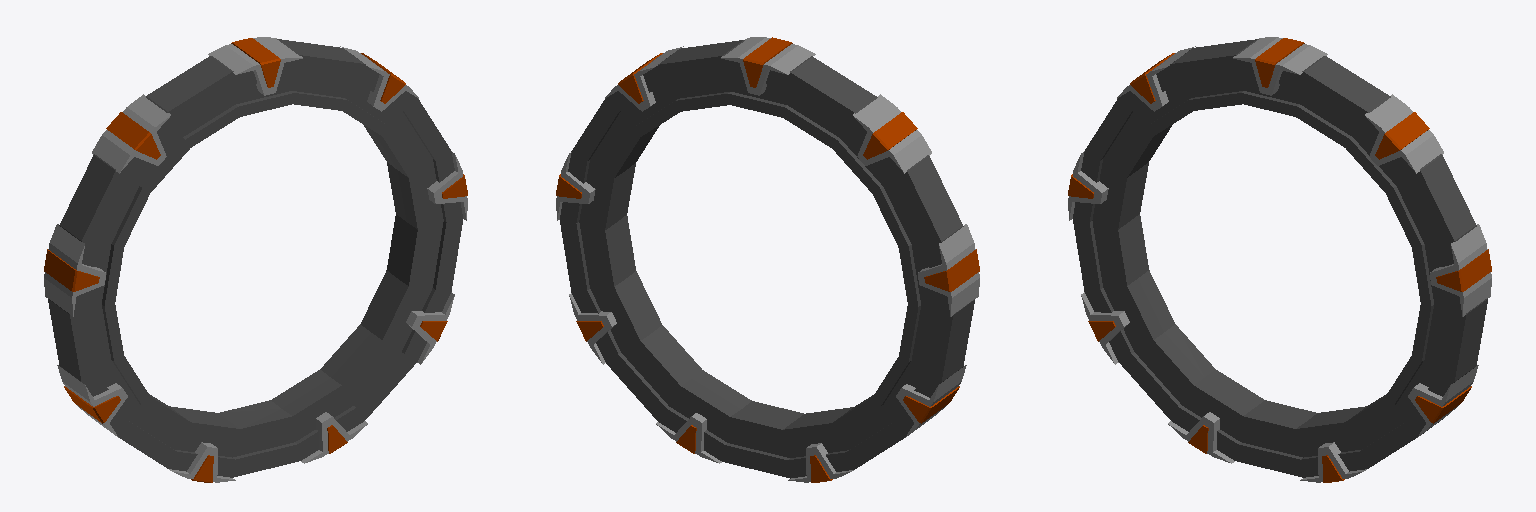
The model's file is stargate.obj.
3 renders of one model, left to right at view 1: azimuth 30°, elevation 25°; view 2: azimuth 150°, elevation 25°; view 3: azimuth 330°, elevation 25°, orthographic.
Visible parts, largest first — view 1: gate, chevron001, chevron002, chevron, chevron003, chevron008, chevron006, chevron005, chevron007, chevron004, chevron009; view 2: gate, chevron001, chevron002, chevron, chevron003, chevron008, chevron006, chevron005, chevron007, chevron004, chevron009; view 3: gate, chevron008, chevron007, chevron, chevron006, chevron001, chevron003, chevron004, chevron002, chevron005, chevron009.
Part boxes in pixels (x1,y1,x2,y2): gate: (48,39,462,477); chevron001: (92,94,170,173); chevron002: (44,224,105,316); chevron: (208,37,302,87); chevron003: (57,365,127,437); chevron008: (340,46,418,111); chevron006: (406,292,454,364); chevron005: (301,412,367,463); chevron007: (427,151,467,220); chevron004: (169,442,235,482); chevron009: (216,42,302,95); gate: (560,40,974,478); chevron001: (853,94,931,173); chevron002: (918,224,979,316); chevron: (721,38,810,95); chevron003: (896,365,966,437); chevron008: (605,46,683,111); chevron006: (569,293,616,364); chevron005: (656,413,721,463); chevron007: (556,152,595,220); chevron004: (788,443,853,482); chevron009: (726,37,815,69); gate: (1073,39,1487,477); chevron008: (1365,94,1443,173); chevron007: (1430,224,1491,316); chevron: (1233,37,1327,92); chevron006: (1408,365,1478,437); chevron001: (1117,46,1195,111); chevron003: (1081,292,1129,364); chevron004: (1168,412,1234,463); chevron002: (1068,151,1108,220); chevron005: (1300,442,1366,482); chevron009: (1233,41,1319,95).
Size of the model in its own units: 4.84 by 4.8 by 0.6378.